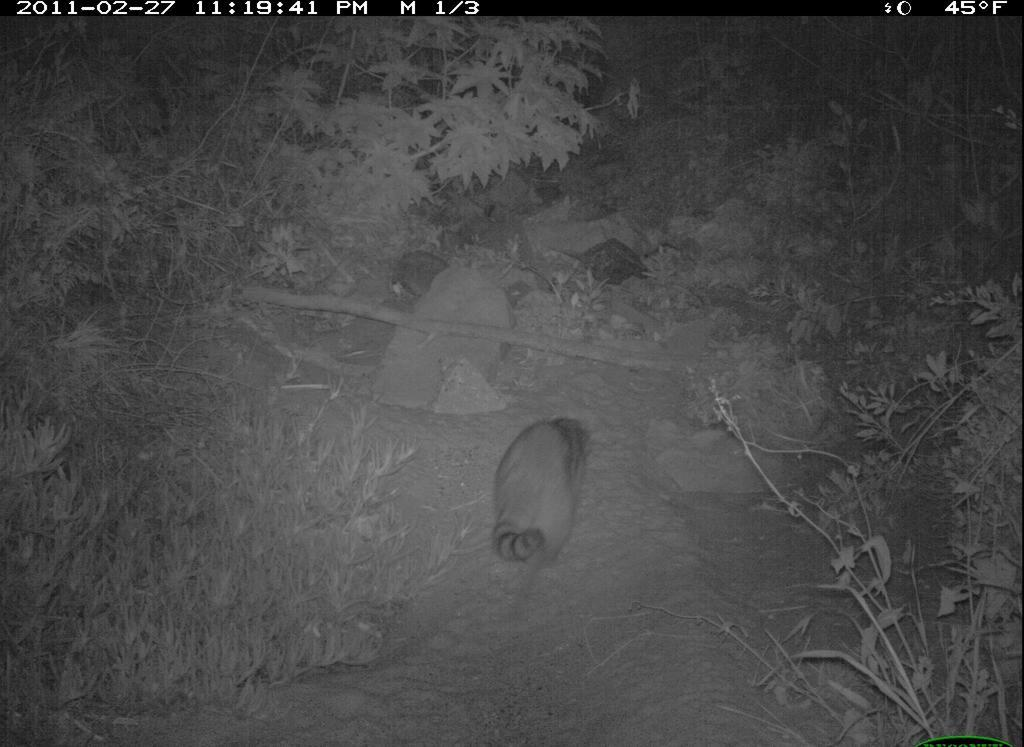raccoon: (479, 406, 605, 588)
